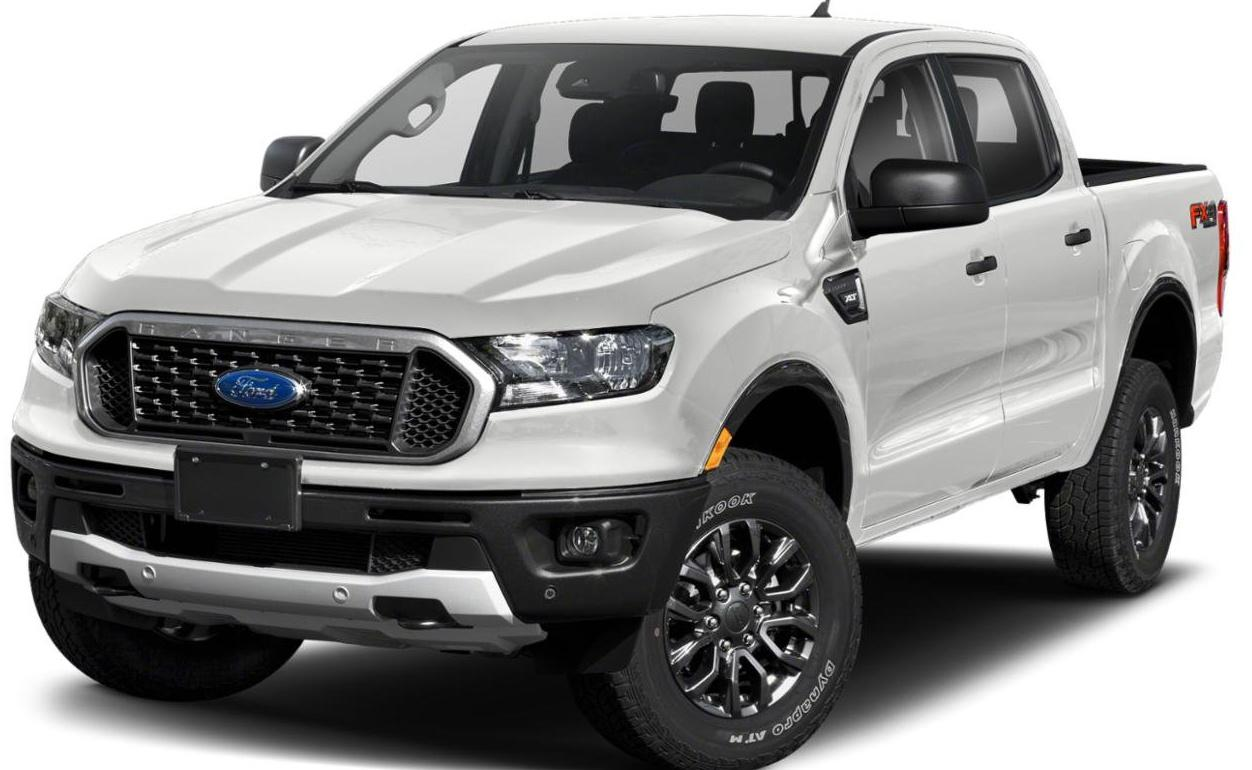Trucks: (10, 20, 1230, 765)
